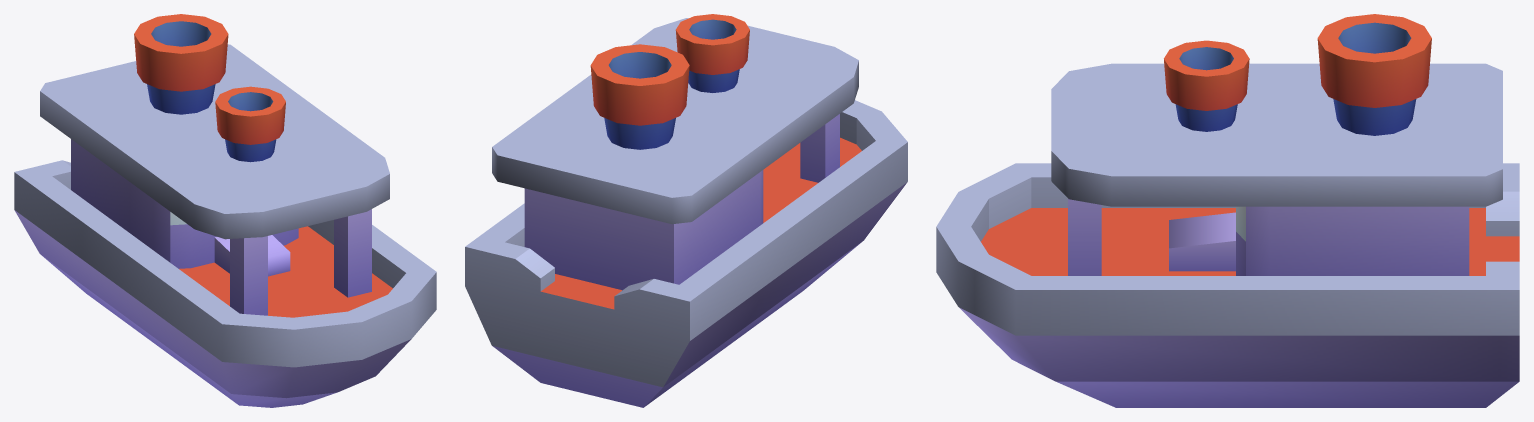
The model's file is sh-tug.glb.
3 renders of one model, left to right at view 1: azimuth 30°, elevation 25°; view 2: azimuth 150°, elevation 25°; view 3: azimuth 270°, elevation 25°, orthographic. The views are drawn at different scales.
Visible parts, largest first — view 1: boat-tug-a; view 2: boat-tug-a; view 3: boat-tug-a.
Part boxes in pixels (box(x1,y1,x2,y2)): boat-tug-a: box(14, 14, 436, 407); boat-tug-a: box(465, 14, 907, 407); boat-tug-a: box(936, 14, 1519, 407).
Size of the model in its own units: 1.78 by 2.24 by 3.47.
1 material, 1 textured.
